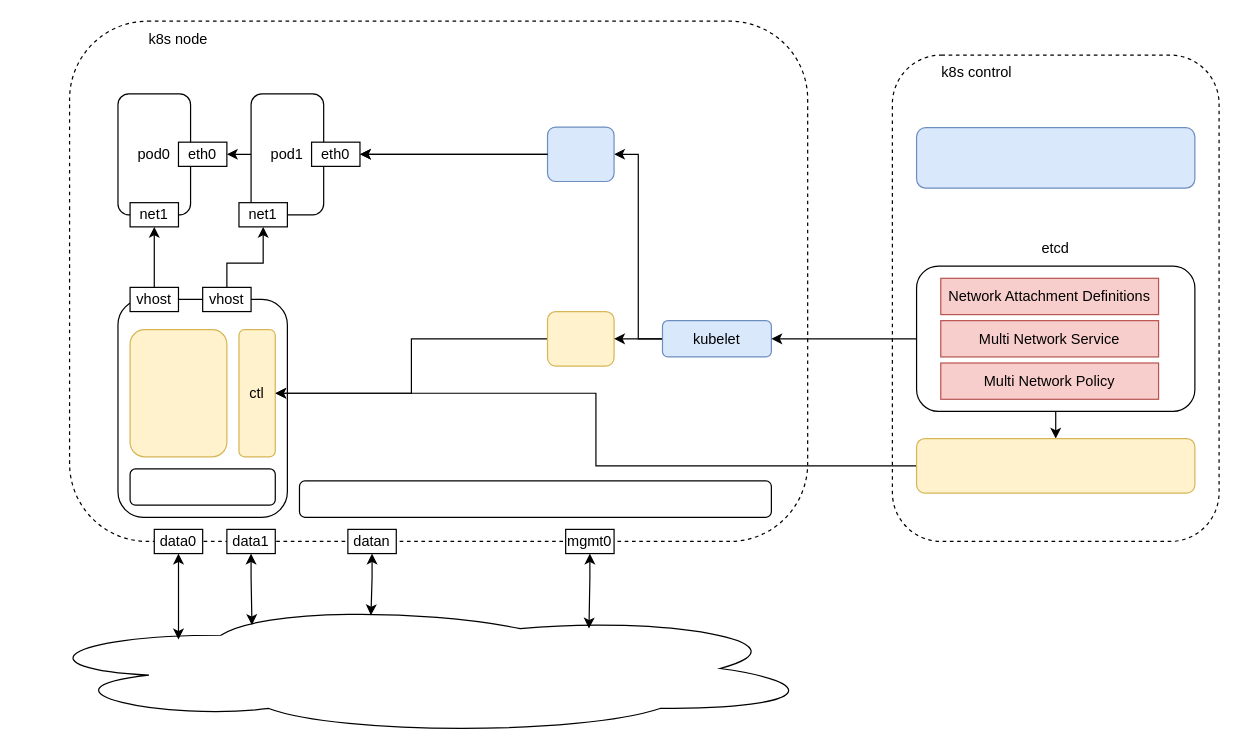
Some shapes in this 1240 by 756 pixel diagram are drawn without their labels. The shapes that lost their labels are listed below. From the top down, each one's box as (x1, y1, x2, y2) in pixels, then its label:
(546, 126, 614, 182): default cni
(915, 126, 1195, 188): k8s control plane
(546, 310, 614, 366): vswitch cni
(129, 329, 227, 457): vswitch dataplane
(915, 437, 1195, 493): vswitch controller
(129, 468, 275, 505): dpdk
(298, 480, 771, 517): kernel
(20, 601, 820, 735): External Network
